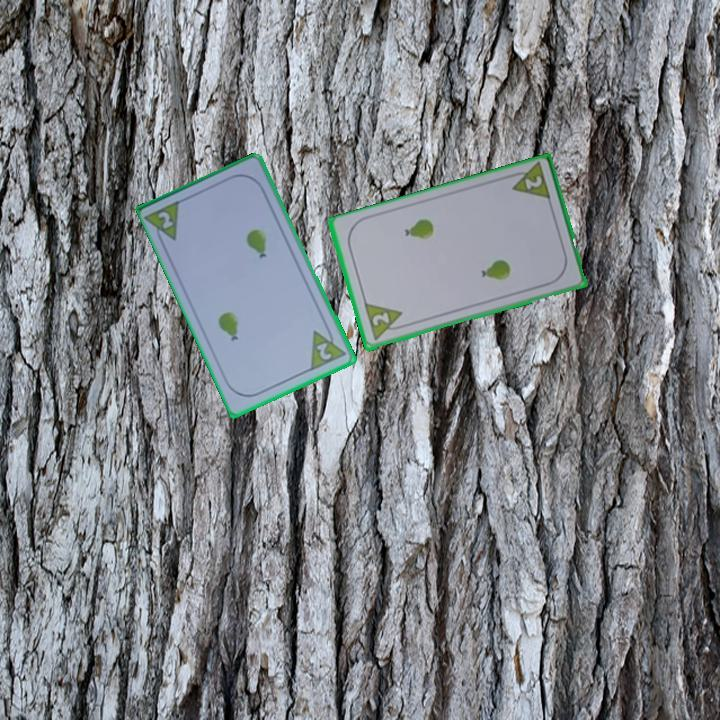2p: (307, 322, 350, 374), (360, 300, 409, 344), (505, 160, 554, 204), (154, 208, 176, 232)
